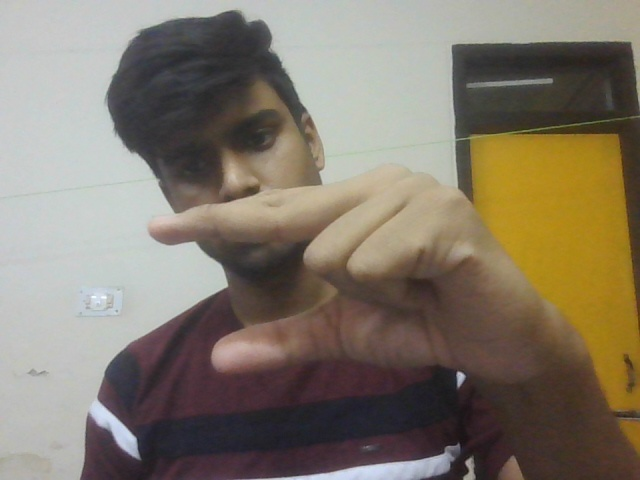no: (139, 156, 608, 413)
